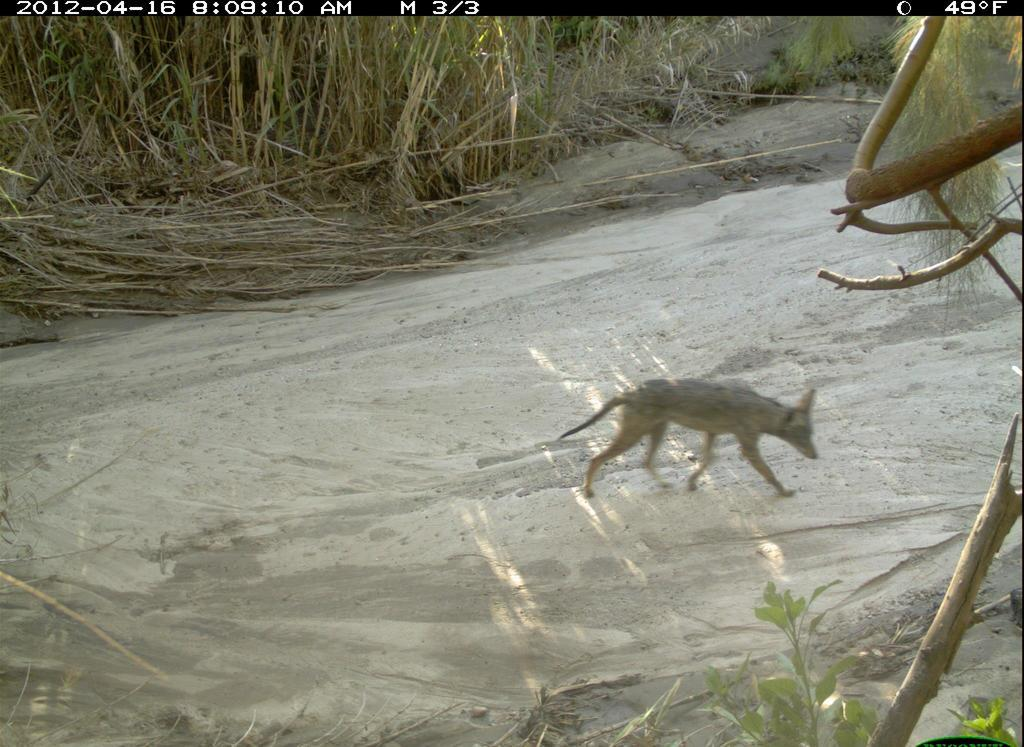coyote: (557, 370, 827, 504)
